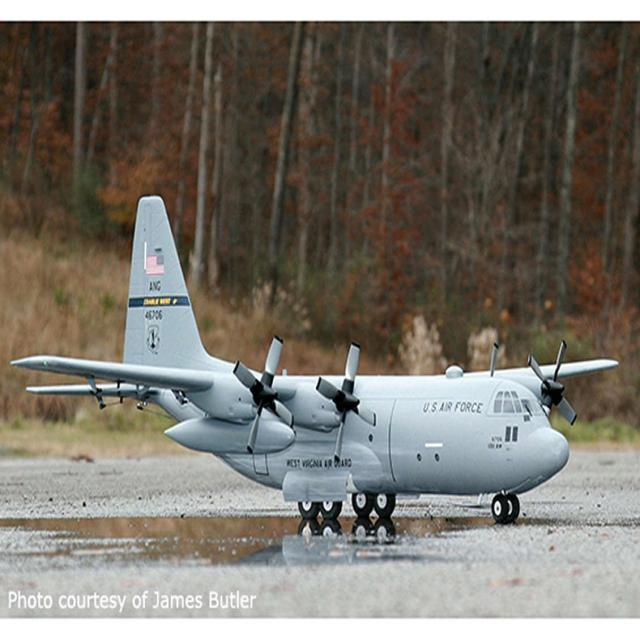C130: (2, 175, 631, 585)
